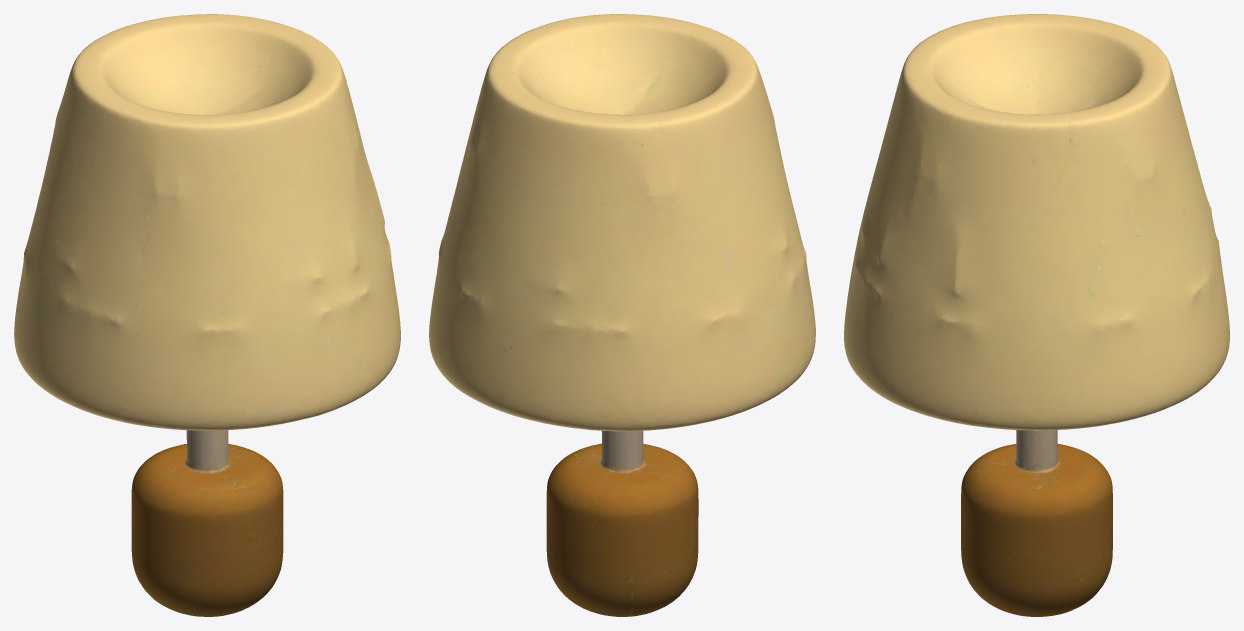
File: lamp.glb
3 views of the same model, side by side, from view 1: azimuth 30°, elevation 25°; view 2: azimuth 150°, elevation 25°; view 3: azimuth 270°, elevation 25° (orthographic).
Visible parts, largest first — view 1: mesh_0; view 2: mesh_0; view 3: mesh_0.
Boxes of the visible parts, x1=… form: mesh_0: x1=14, y1=14, x2=400, y2=616; mesh_0: x1=429, y1=14, x2=815, y2=616; mesh_0: x1=844, y1=14, x2=1229, y2=616.
Bounding box in the file's own units: 1.24 × 1.9 × 1.24.
Materials: 1 (1 with a texture image).
